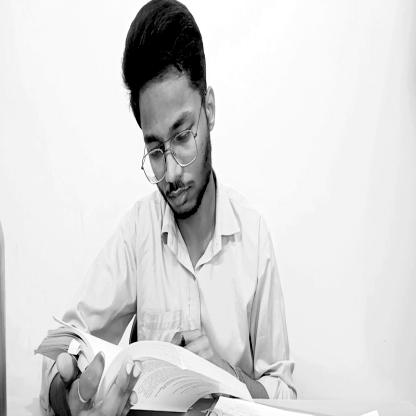Distracted: (122, 1, 214, 233)
